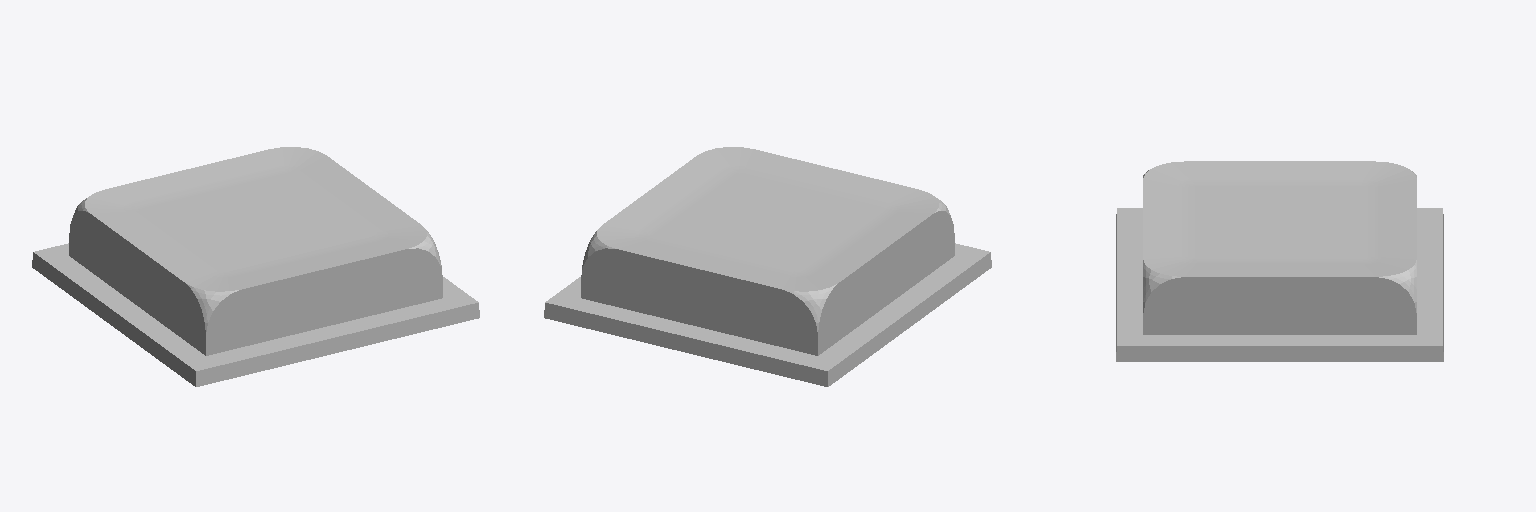
File: bouton_simple.obj
The picture shows the model from 3 angles: view 1: azimuth 30°, elevation 25°; view 2: azimuth 150°, elevation 25°; view 3: azimuth 270°, elevation 25°; orthographic projection.
Visible parts, largest first — view 1: Cube.084_Cube.179; view 2: Cube.084_Cube.179; view 3: Cube.084_Cube.179.
Boxes of the visible parts, x1=… form: Cube.084_Cube.179: x1=32, y1=147, x2=479, y2=386; Cube.084_Cube.179: x1=544, y1=147, x2=991, y2=386; Cube.084_Cube.179: x1=1116, y1=161, x2=1443, y2=361.
Bounding box in the file's own units: 1.2 × 0.2965 × 1.2.